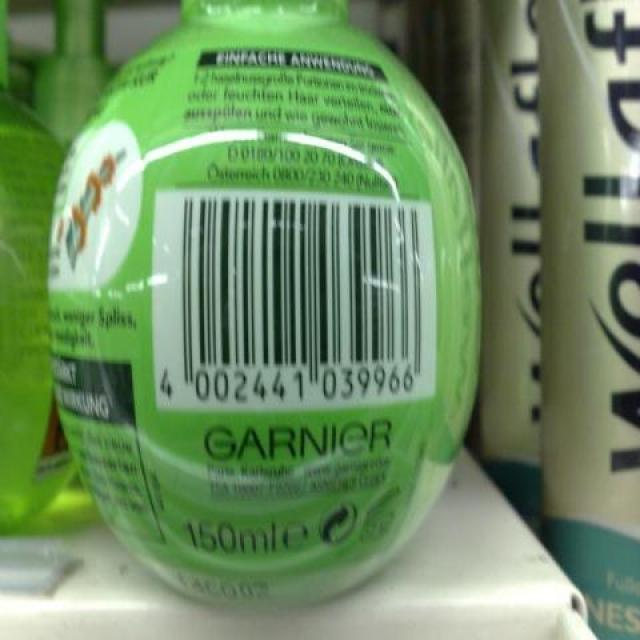Barcode: (151, 189, 438, 411)
